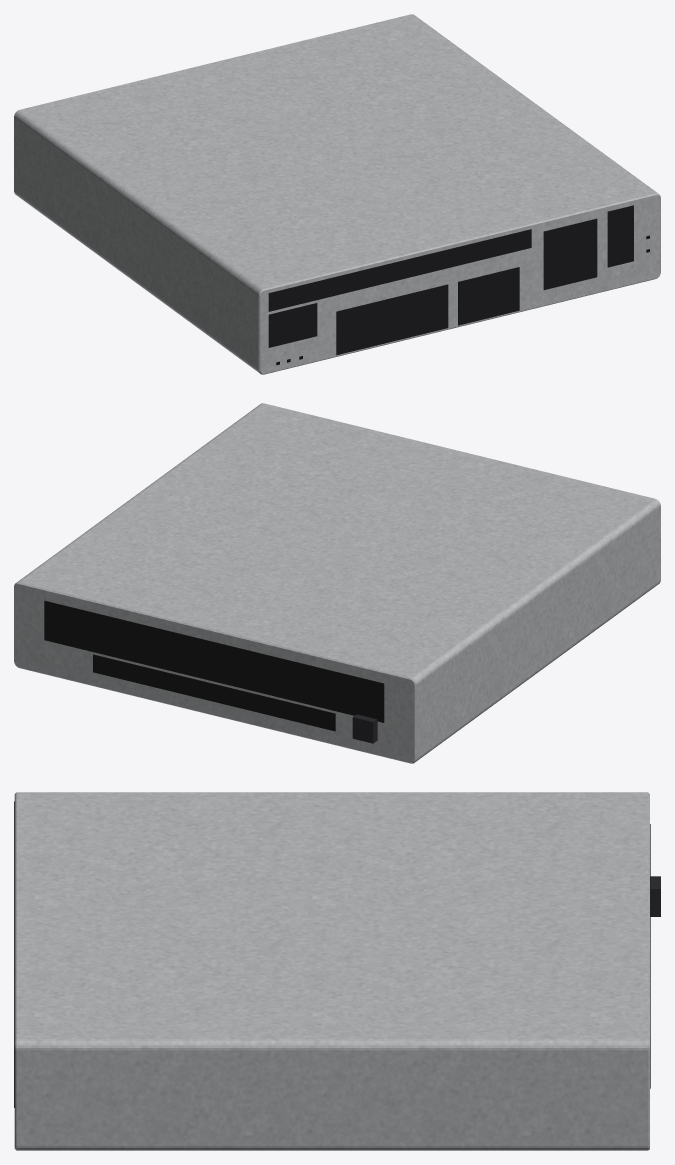
Rendered from C9800-L-C.far.glb.
3 renders of one model, top to bottom at view 1: azimuth 30°, elevation 25°; view 2: azimuth 150°, elevation 25°; view 3: azimuth 270°, elevation 25°, orthographic. The views are drawn at different scales.
Parts seen in each view (by area): view 1: Shell_far; view 2: Shell_far; view 3: Shell_far.
Part boxes in pixels (left/top/right/bottom): Shell_far: left=14, top=14, right=660, bottom=374; Shell_far: left=14, top=403, right=660, bottom=763; Shell_far: left=14, top=792, right=660, bottom=1150.
Size of the model in its own units: 0.2159 by 0.0439 by 0.2329.
3 materials, 2 textured.
